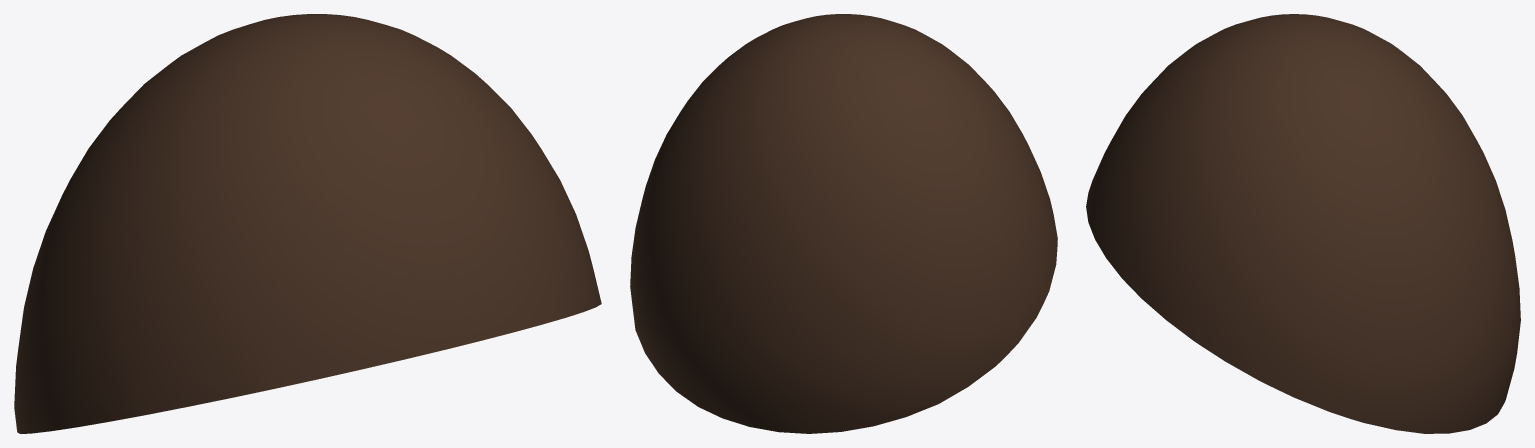
Rendered from hair_buzz.fbx.
3 views of the same model, side by side, from view 1: azimuth 30°, elevation 25°; view 2: azimuth 150°, elevation 25°; view 3: azimuth 270°, elevation 25° (orthographic). The views are drawn at different scales.
Parts seen in each view (by area): view 1: hair_buzz; view 2: hair_buzz; view 3: hair_buzz.
Part boxes in pixels (x1,y1,x2,y2): hair_buzz: [14, 14, 601, 433]; hair_buzz: [630, 14, 1057, 433]; hair_buzz: [1086, 14, 1520, 433].
Bounding box in the file's own units: 0.2847 × 0.2347 × 0.2589.
